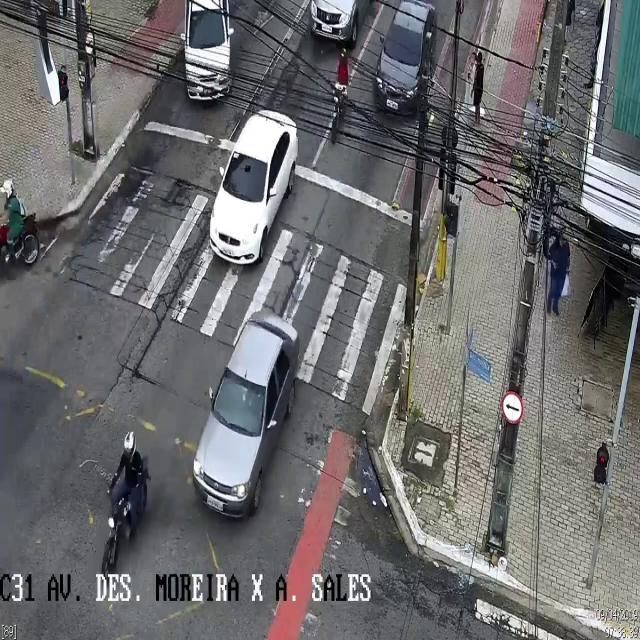Car: (191, 311, 299, 522), (208, 109, 298, 263), (373, 1, 437, 122), (179, 1, 234, 100), (303, 0, 371, 47)
Motorcycle: (102, 431, 150, 582), (0, 164, 52, 268), (331, 45, 349, 145)
